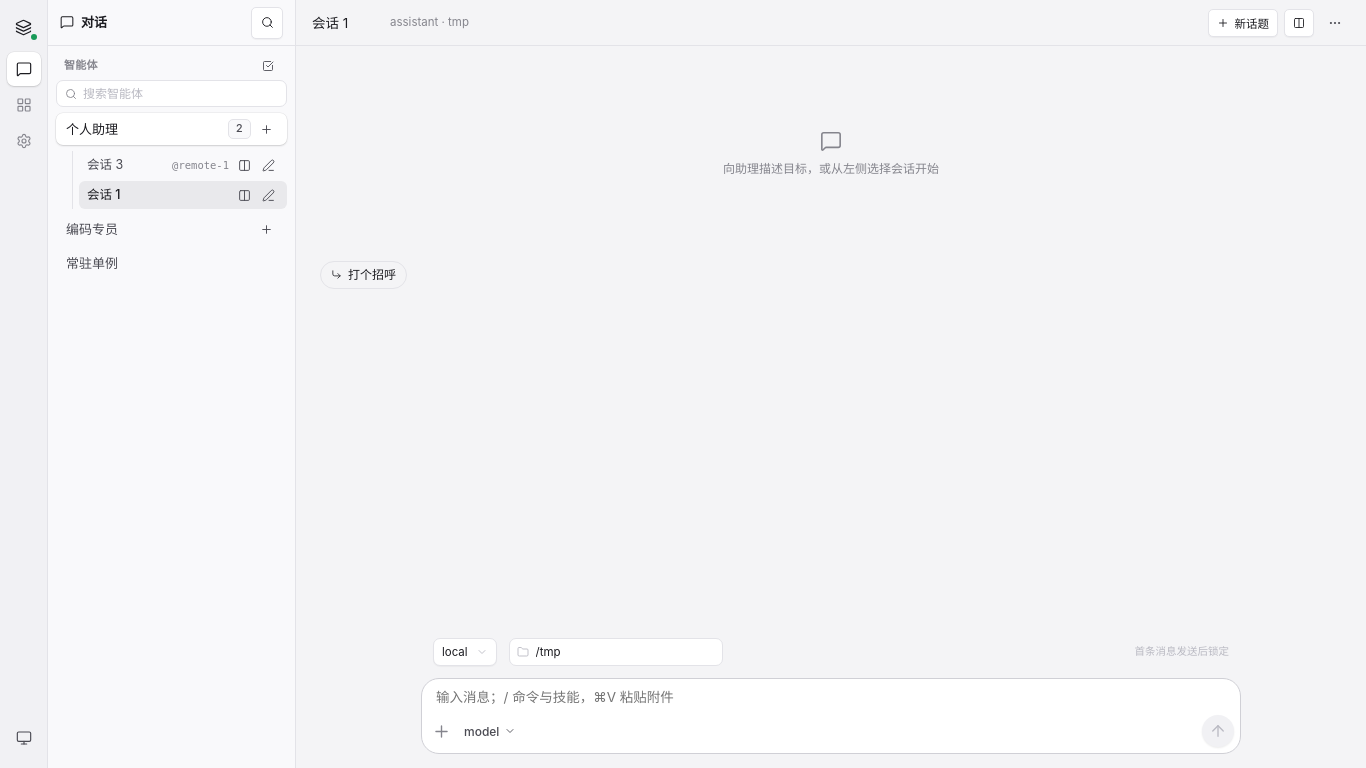
Sidebar 新建入口：智能体行加号进入待命态，零会话待命智能体平铺且激活
What coordinates should you click on to do the following:
click the button titled "在 个人助理 下开始新话题"
I would click on:
 (266, 129)
Its box is top-left (255, 118), bottom-right (277, 140).
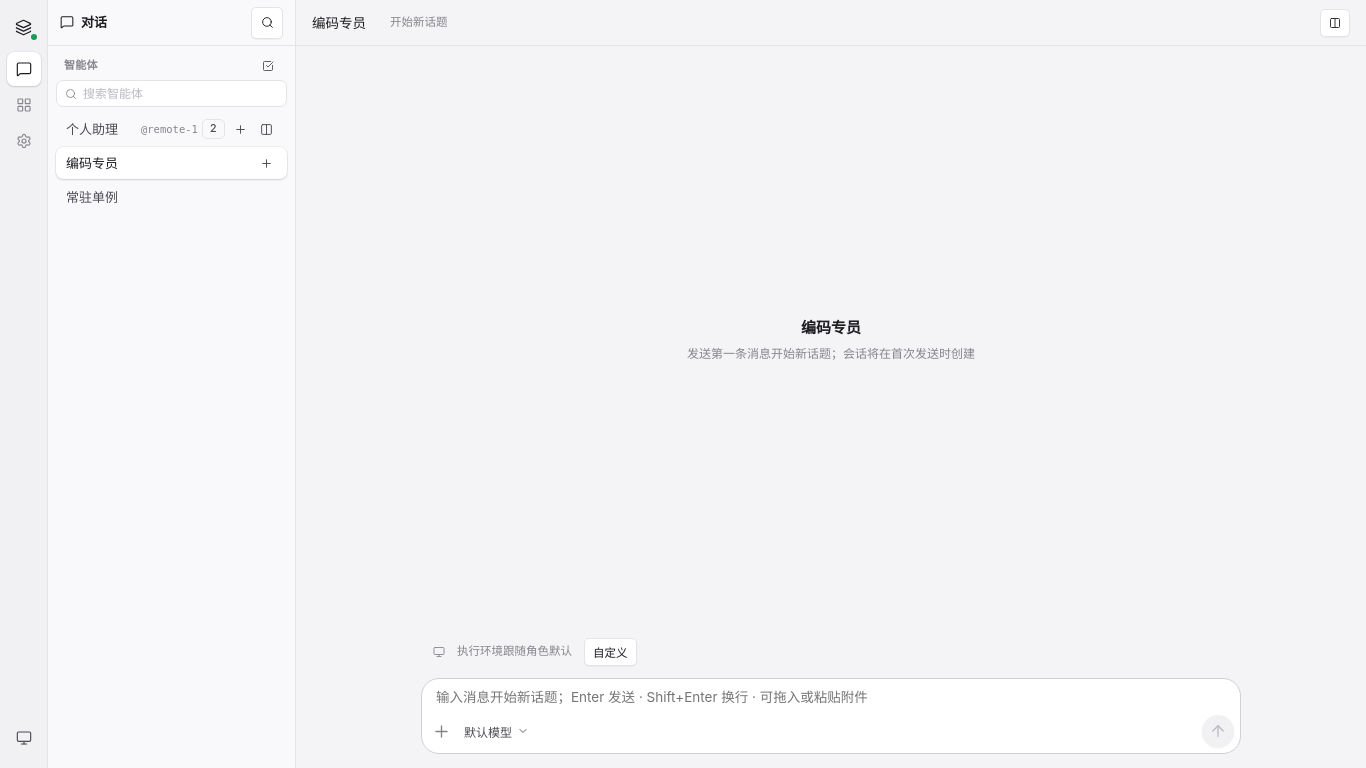
Check: the button with class "nav-item-main" showing "编码专员" is shown, box top-left (66, 152), bottom-right (247, 174)
Check: the element with class "agent-standby-pane" is shown
